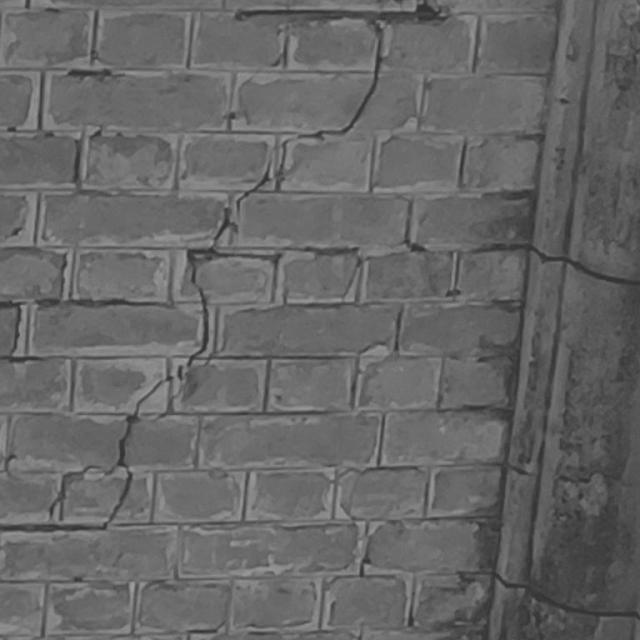crack: (1, 1, 451, 533)
